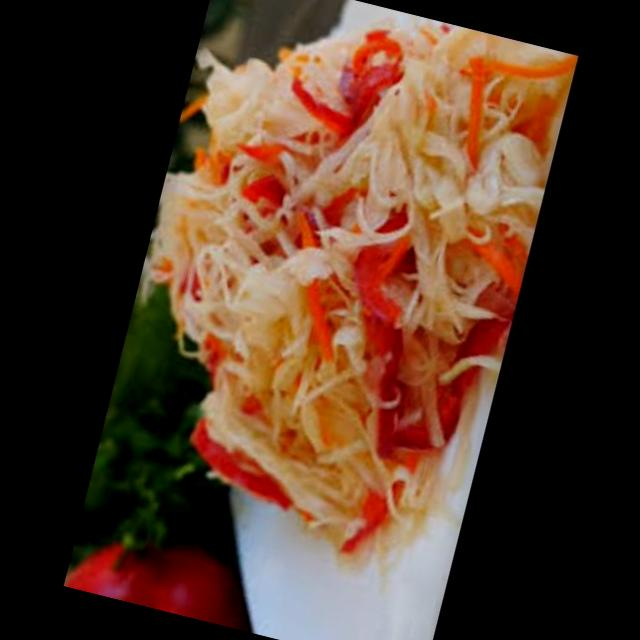Carrot: (316, 214, 437, 424), (437, 28, 504, 162), (484, 42, 573, 92)
cabbage: (313, 21, 571, 250), (142, 218, 366, 474), (274, 406, 439, 572), (183, 15, 341, 184), (138, 138, 238, 296), (379, 207, 494, 342)
hot pepper: (275, 7, 417, 164), (424, 298, 508, 432), (174, 428, 292, 502), (232, 169, 282, 214)
